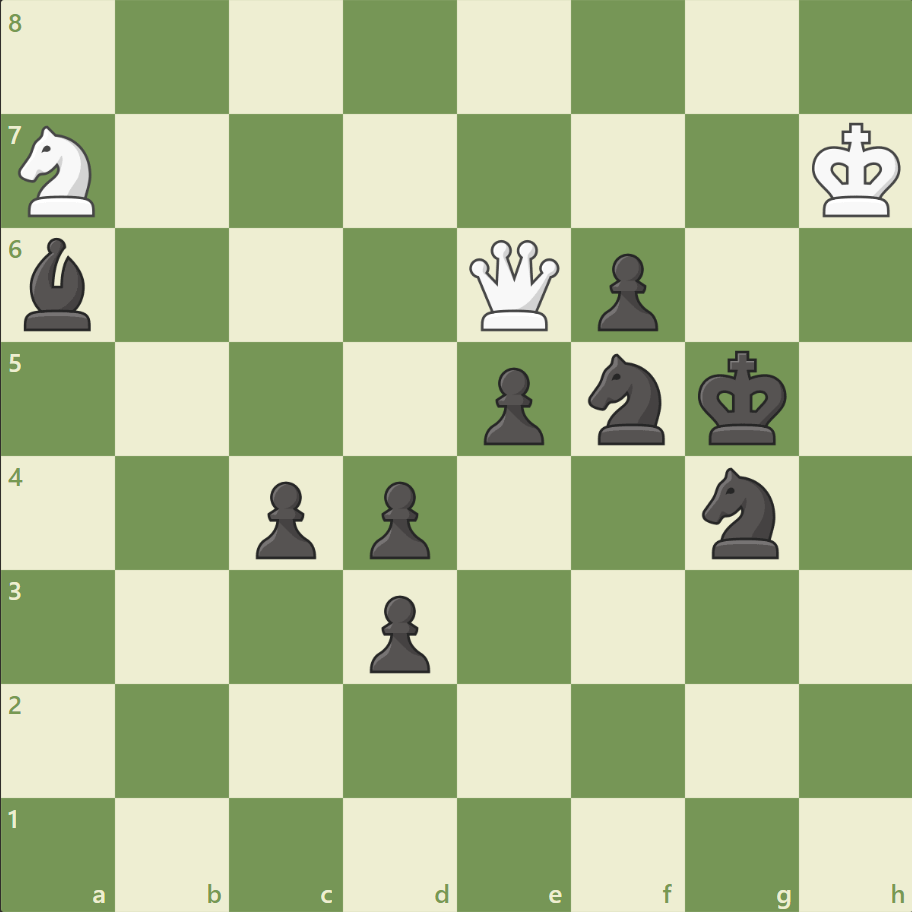K: (806, 117, 906, 225)
N: (11, 121, 108, 223)
Q: (464, 236, 563, 335)
b: (17, 233, 101, 336)
k: (692, 344, 792, 452)
n: (692, 461, 789, 564), (579, 348, 676, 450)
p: (474, 359, 549, 450), (247, 473, 322, 564), (588, 246, 662, 337), (361, 473, 435, 564), (361, 586, 435, 677)
